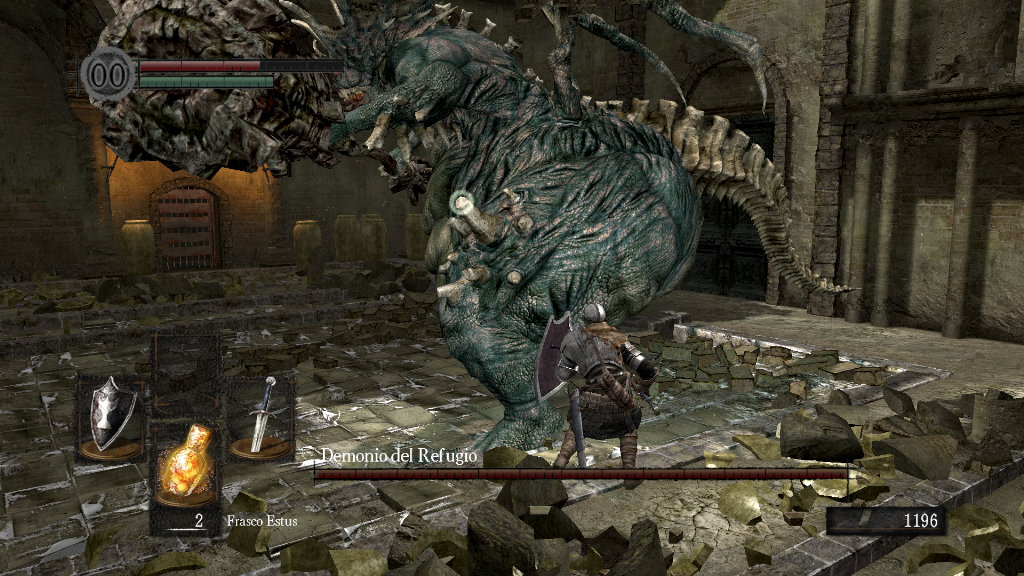asylumDemon: (87, 1, 866, 455)
bossHP: (314, 469, 847, 479)
health: (138, 58, 343, 71)
humanity: (80, 45, 136, 102)
player: (536, 302, 660, 491)
souls: (825, 506, 945, 536)
stamina: (138, 74, 274, 88)
